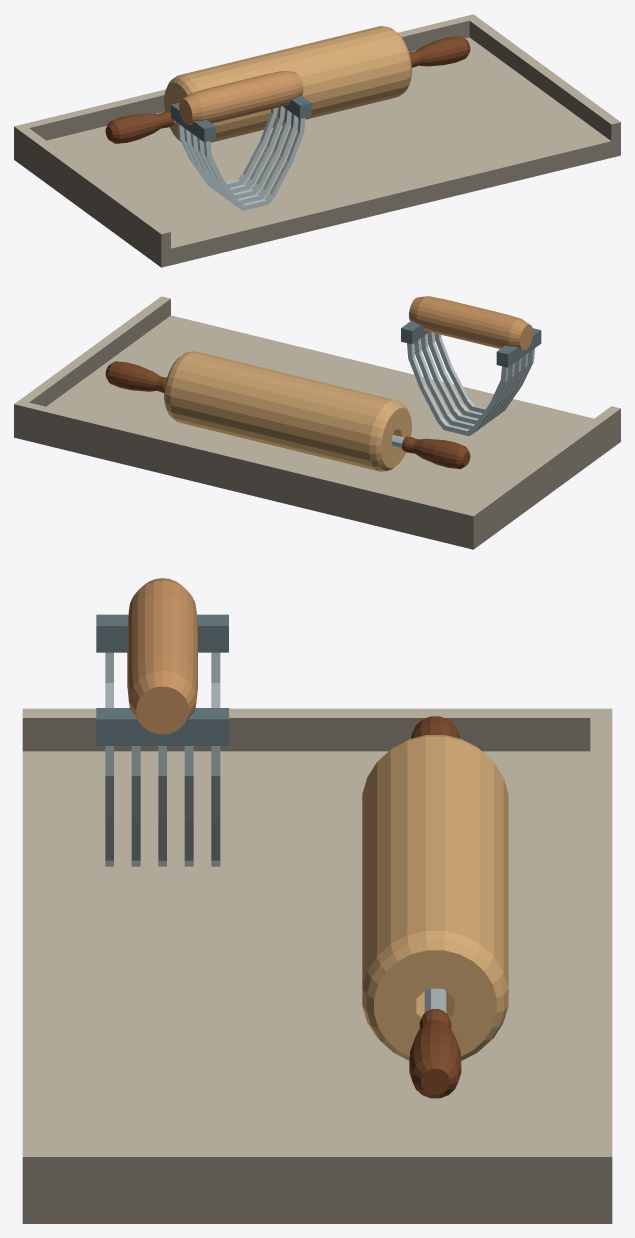
3 views of the same model, one above another, from view 1: azimuth 30°, elevation 25°; view 2: azimuth 150°, elevation 25°; view 3: azimuth 270°, elevation 25° (orthographic). The views are drawn at different scales.
Visible parts, largest first — view 1: SCENE_ONLY__ContinuousThreeRimBoard, pin__Barrel_ThickRoundedTrueBore, blender__WholeCrosswiseContouredPalmGrip, pin__Grip_LeftNeckedRoundedHandle, pin__Grip_RightNeckedRoundedHandle, blender__WholeCurvedRibbon1, blender__WholeCurvedRibbon2, blender__WholeCurvedRibbon3, blender__WholeCurvedRibbon4, blender__WholeCurvedRibbon5, blender__WholeLeftRibbonEndMount, blender__WholeRightRibbonEndMount; view 2: SCENE_ONLY__ContinuousThreeRimBoard, pin__Barrel_ThickRoundedTrueBore, blender__WholeCrosswiseContouredPalmGrip, pin__Grip_LeftNeckedRoundedHandle, blender__WholeCurvedRibbon5, pin__Grip_RightNeckedRoundedHandle, blender__WholeCurvedRibbon4, blender__WholeCurvedRibbon3, blender__WholeCurvedRibbon2, blender__WholeCurvedRibbon1, blender__WholeLeftRibbonEndMount, blender__WholeRightRibbonEndMount; view 3: SCENE_ONLY__ContinuousThreeRimBoard, pin__Barrel_ThickRoundedTrueBore, blender__WholeCrosswiseContouredPalmGrip, blender__WholeRightRibbonEndMount, pin__Grip_RightNeckedRoundedHandle, blender__WholeLeftRibbonEndMount, blender__WholeCurvedRibbon5, blender__WholeCurvedRibbon1, blender__WholeCurvedRibbon2, blender__WholeCurvedRibbon4, blender__WholeCurvedRibbon3.
Boxes of the visible parts, x1,y1,x2,y2 form: SCENE_ONLY__ContinuousThreeRimBoard: (14, 14, 620, 267); pin__Barrel_ThickRoundedTrueBore: (164, 26, 411, 142); blender__WholeCrosswiseContouredPalmGrip: (179, 71, 303, 124); pin__Grip_LeftNeckedRoundedHandle: (105, 111, 174, 143); pin__Grip_RightNeckedRoundedHandle: (409, 36, 470, 67); blender__WholeCurvedRibbon1: (204, 118, 305, 210); blender__WholeCurvedRibbon2: (197, 113, 298, 203); blender__WholeCurvedRibbon3: (190, 108, 291, 198); blender__WholeCurvedRibbon4: (184, 106, 284, 194); blender__WholeCurvedRibbon5: (177, 107, 277, 189); blender__WholeLeftRibbonEndMount: (171, 102, 215, 142); blender__WholeRightRibbonEndMount: (283, 95, 311, 118); SCENE_ONLY__ContinuousThreeRimBoard: (14, 296, 620, 549); pin__Barrel_ThickRoundedTrueBore: (164, 351, 411, 471); blender__WholeCrosswiseContouredPalmGrip: (409, 296, 533, 350); pin__Grip_LeftNeckedRoundedHandle: (402, 436, 470, 468); blender__WholeCurvedRibbon5: (407, 343, 508, 436); pin__Grip_RightNeckedRoundedHandle: (105, 361, 166, 392); blender__WholeCurvedRibbon4: (414, 339, 514, 429); blender__WholeCurvedRibbon3: (420, 334, 521, 424); blender__WholeCurvedRibbon2: (427, 332, 528, 419); blender__WholeCurvedRibbon1: (434, 333, 534, 414); blender__WholeLeftRibbonEndMount: (496, 328, 541, 367); blender__WholeRightRibbonEndMount: (401, 321, 429, 344); SCENE_ONLY__ContinuousThreeRimBoard: (22, 708, 612, 1223); pin__Barrel_ThickRoundedTrueBore: (362, 735, 508, 1060); blender__WholeCrosswiseContouredPalmGrip: (127, 578, 197, 734); blender__WholeRightRibbonEndMount: (96, 708, 228, 745); pin__Grip_RightNeckedRoundedHandle: (409, 1009, 461, 1098); blender__WholeLeftRibbonEndMount: (96, 614, 228, 652); blender__WholeCurvedRibbon5: (211, 652, 220, 866); blender__WholeCurvedRibbon1: (105, 652, 113, 866); blender__WholeCurvedRibbon2: (131, 746, 140, 866); blender__WholeCurvedRibbon4: (184, 746, 193, 866); blender__WholeCurvedRibbon3: (158, 746, 166, 866).
Bounding box in the file's own units: 0.72 × 0.197 × 0.4.
